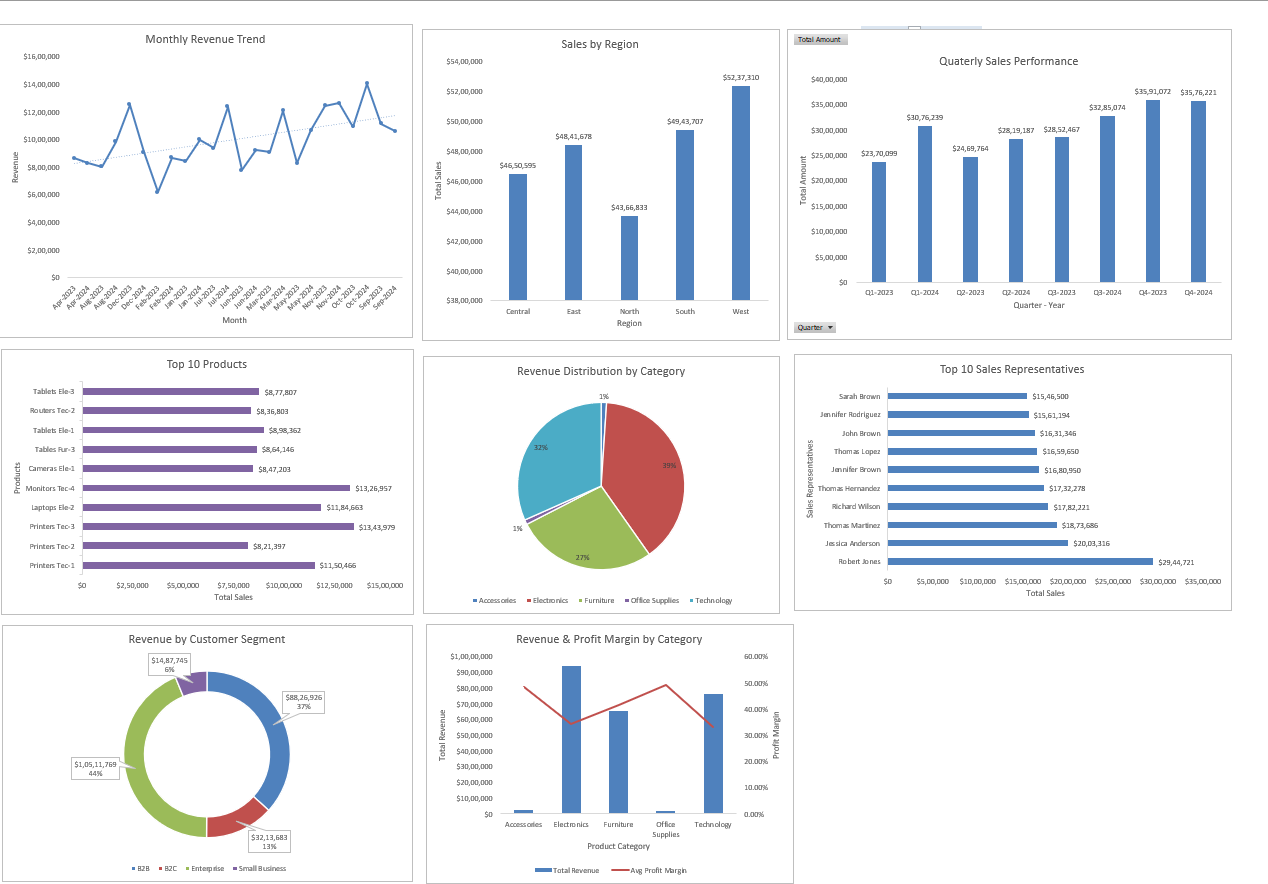

The dashboard page shown, as its layout file describes it:
{"tool":"powerbi","page":{"name":"Executive Overview","canvas":[1280,720],"ordinal":0},"visuals":[{"type":"textbox","box":[0,0,1280.3,63.1],"z":0},{"type":"textbox","box":[0,63.1,1280.3,37],"z":1000},{"type":"card","fields":{"Values":["_Measure.Total Revenue"]},"box":[19,114,218,105],"z":2000},{"type":"card","fields":{"Values":["_Measure.Total Profit"]},"box":[251.2,113.8,190,105],"z":3000},{"type":"card","fields":{"Values":["_Measure.Profit Margin %"]},"box":[453.8,113.8,200,105],"z":4000},{"type":"card","fields":{"Values":["_Measure.Total Transactions"]},"box":[663.8,113.8,187.5,105],"z":5000},{"type":"card","fields":{"Values":["_Measure.Avg Order Value"]},"box":[862.5,113.8,191.2,105],"z":6000},{"type":"card","fields":{"Values":["_Measure.Total Customers"]},"box":[1066.2,113.8,202.5,105],"z":7000},{"type":"slicer","fields":{"Values":["DateTable.Year"]},"box":[20,222.5,176.2,73.8],"z":8000},{"type":"slicer","fields":{"Values":["DateTable.Quarter"]},"box":[208.8,222.5,232.5,72.5],"z":9000},{"type":"slicer","fields":{"Values":["Sales_Transactions.Region"]},"box":[453.8,222.5,373.8,72.5],"z":10000},{"type":"slicer","fields":{"Values":["Sales_Transactions.Category"]},"box":[835,222.5,433.8,72.5],"z":11000},{"type":"lineChart","title":"Revenue & Profit Trend","fields":{"Category":["DateTable.Date"],"Y":["_Measure.Total Revenue"],"Y2":["_Measure.Total Profit"]},"box":[20,305,501,214],"z":12000},{"type":"clusteredColumnChart","title":"Sales by Region","fields":{"Category":["Sales_Transactions.Region"],"Y":["Sum(Sales_Transactions.Total_Amount)"]},"box":[531,305,297,194],"z":13000},{"type":"donutChart","title":"Revenue by Category","fields":{"Category":["Sales_Transactions.Category"],"Y":["Sum(Sales_Transactions.Total_Amount)"]},"box":[538,509,314,202],"z":14000},{"type":"clusteredColumnChart","title":"Monthly Performance","fields":{"Category":["DateTable.MonthYear"],"Y":["Sum(Sales_Transactions.Total_Amount)"]},"box":[20,526,511,185],"z":15000},{"type":"clusteredBarChart","title":"Top 10 Products","fields":{"Category":["Sales_Transactions.Product_Name"],"Y":["Sum(Sales_Transactions.Total_Amount)"]},"box":[835,301,434,198],"z":16000},{"type":"pieChart","title":"Revenue by Customer Segment","fields":{"Category":["Sales_Transactions.Customer_Segment"],"Y":["Sum(Sales_Transactions.Total_Amount)"]},"box":[857,509,412,202],"z":17000}]}

Visuals, with their boxes on the page's 1280x720 design canvas (x1, y1, x2, y2). These are canvas units, not pixel positions in the 1268x884 screenshot, which may show the page scaled, cropped or inside an application window:
textbox: [0,0,1280,63]
textbox: [0,63,1280,100]
card - _Measure.Total Revenue: [19,114,237,219]
card - _Measure.Total Profit: [251,114,441,219]
card - _Measure.Profit Margin %: [454,114,654,219]
card - _Measure.Total Transactions: [664,114,851,219]
card - _Measure.Avg Order Value: [862,114,1054,219]
card - _Measure.Total Customers: [1066,114,1269,219]
slicer - DateTable.Year: [20,222,196,296]
slicer - DateTable.Quarter: [209,222,441,295]
slicer - Sales_Transactions.Region: [454,222,828,295]
slicer - Sales_Transactions.Category: [835,222,1269,295]
"Revenue & Profit Trend" lineChart: [20,305,521,519]
"Sales by Region" clusteredColumnChart: [531,305,828,499]
"Revenue by Category" donutChart: [538,509,852,711]
"Monthly Performance" clusteredColumnChart: [20,526,531,711]
"Top 10 Products" clusteredBarChart: [835,301,1269,499]
"Revenue by Customer Segment" pieChart: [857,509,1269,711]
